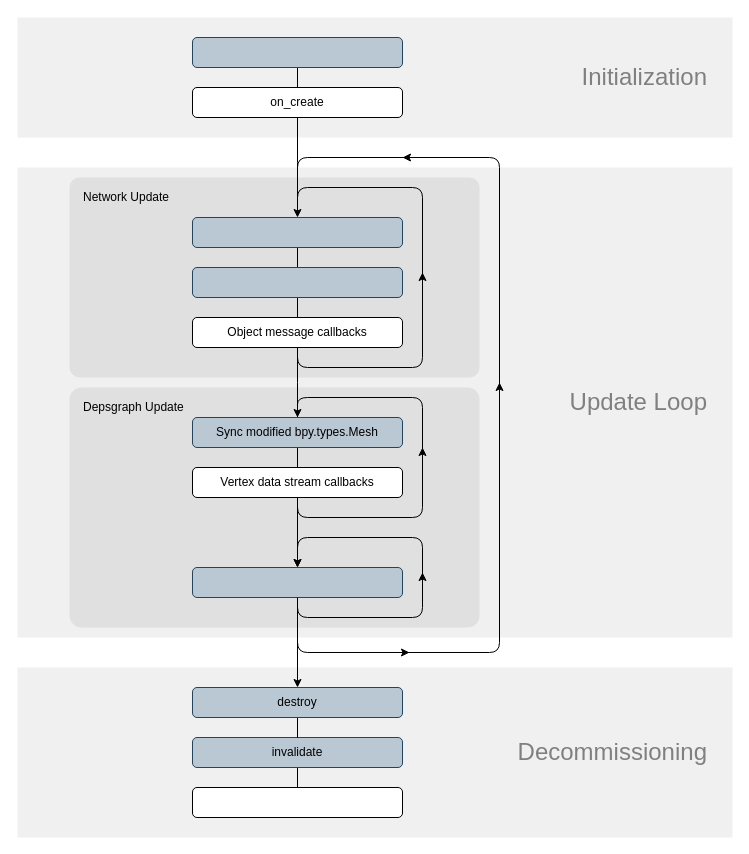
The diagram is 749 pixels wide and 854 high, and some of its shapes have lost their labels. The shapes that lost their labels are listed below. From the top down, each one's centre as x and y in pixels, then its label:
At pixel 297 52: "instantiate".
At pixel 297 232: "Read message queue".
At pixel 297 282: "dispatch".
At pixel 297 582: "Sync removed bpy.types.Object".
At pixel 297 802: "on_destroy".
